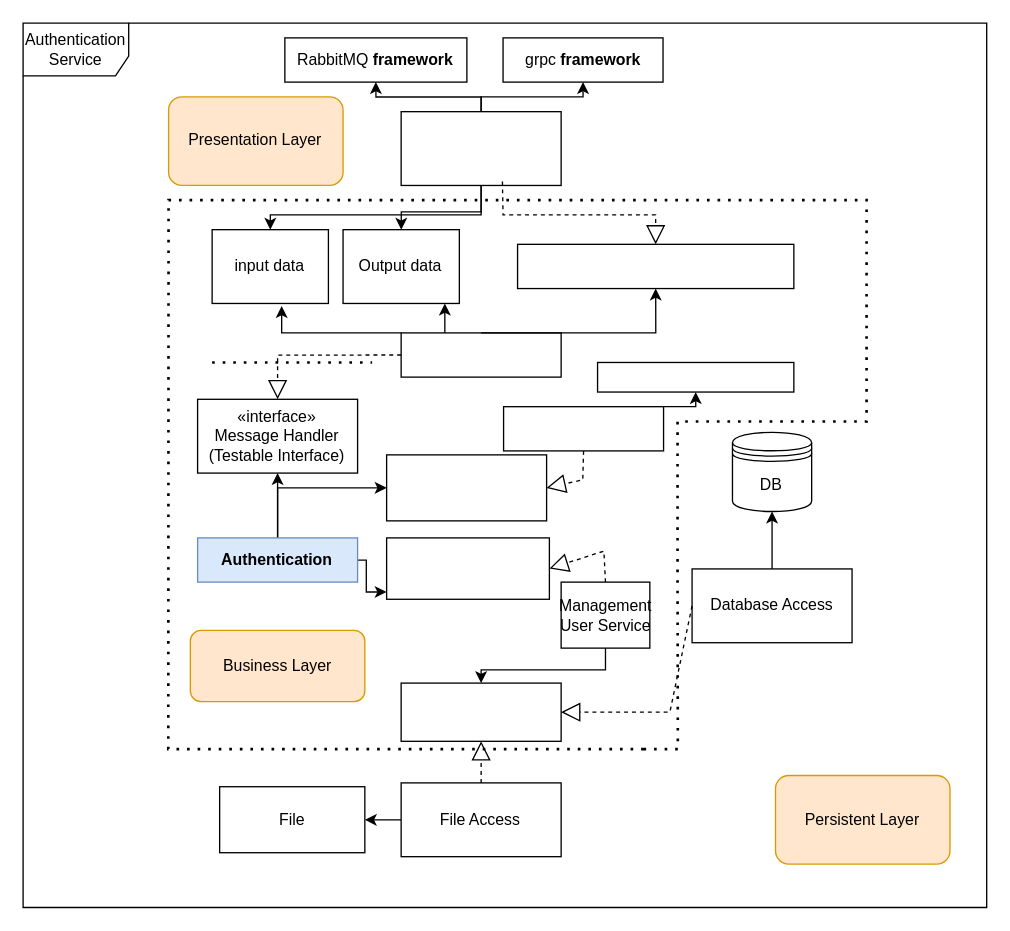
Some shapes in this 1010 by 931 pixel diagram are drawn without their labels. The box of each missing label's shape, as (x1, y1, x2, y2) in pixels:
Message Handler: (400, 332, 561, 377)
Service Comminucator: (400, 110, 561, 185)
Tokenizer framework: (596, 361, 794, 392)
Tokenizer Services: (502, 405, 664, 451)
«interface» Data Access (Testable Interface): (400, 682, 561, 741)
«interface» Management Service (Testable Interface): (385, 537, 549, 599)
«interface» Message (Testable Interface): (516, 243, 794, 289)
«interface» Tokenizer Service (Testable Interface): (385, 454, 547, 521)
